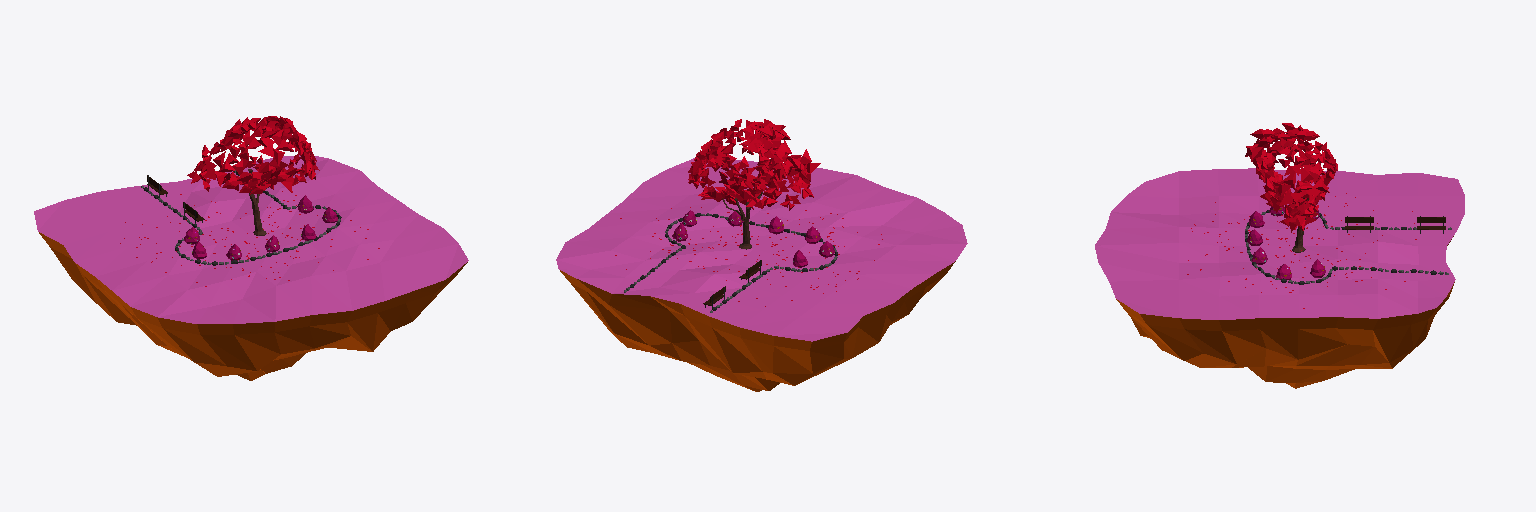
File: cherrytree.obj
The picture shows the model from 3 angles: view 1: azimuth 30°, elevation 25°; view 2: azimuth 150°, elevation 25°; view 3: azimuth 270°, elevation 25°; orthographic projection.
Visible parts, largest first — view 1: Cliff_Plane.003, LEaf.008_Plane.002, GH.Bush.007_Icosphere.008, Garden_Stones_Cube.034; view 2: Cliff_Plane.003, LEaf.008_Plane.002, GH.Bush.007_Icosphere.008, Garden_Stones_Cube.034; view 3: Cliff_Plane.003, LEaf.008_Plane.002, GH.Bush.007_Icosphere.008, Garden_Stones_Cube.034.
Part boxes in pixels (left/top/right/bottom): Cliff_Plane.003: left=34, top=155, right=468, bottom=380; LEaf.008_Plane.002: left=187, top=116, right=319, bottom=194; GH.Bush.007_Icosphere.008: left=184, top=195, right=337, bottom=260; Garden_Stones_Cube.034: left=141, top=170, right=341, bottom=265; Cliff_Plane.003: left=556, top=158, right=967, bottom=391; LEaf.008_Plane.002: left=688, top=119, right=820, bottom=210; GH.Bush.007_Icosphere.008: left=672, top=210, right=834, bottom=267; Garden_Stones_Cube.034: left=624, top=213, right=837, bottom=312; Cliff_Plane.003: left=1095, top=168, right=1464, bottom=388; LEaf.008_Plane.002: left=1245, top=123, right=1337, bottom=232; GH.Bush.007_Icosphere.008: left=1247, top=207, right=1325, bottom=279; Garden_Stones_Cube.034: left=1245, top=210, right=1451, bottom=284.
Size of the model in its own units: 20.63 by 16.55 by 21.13.